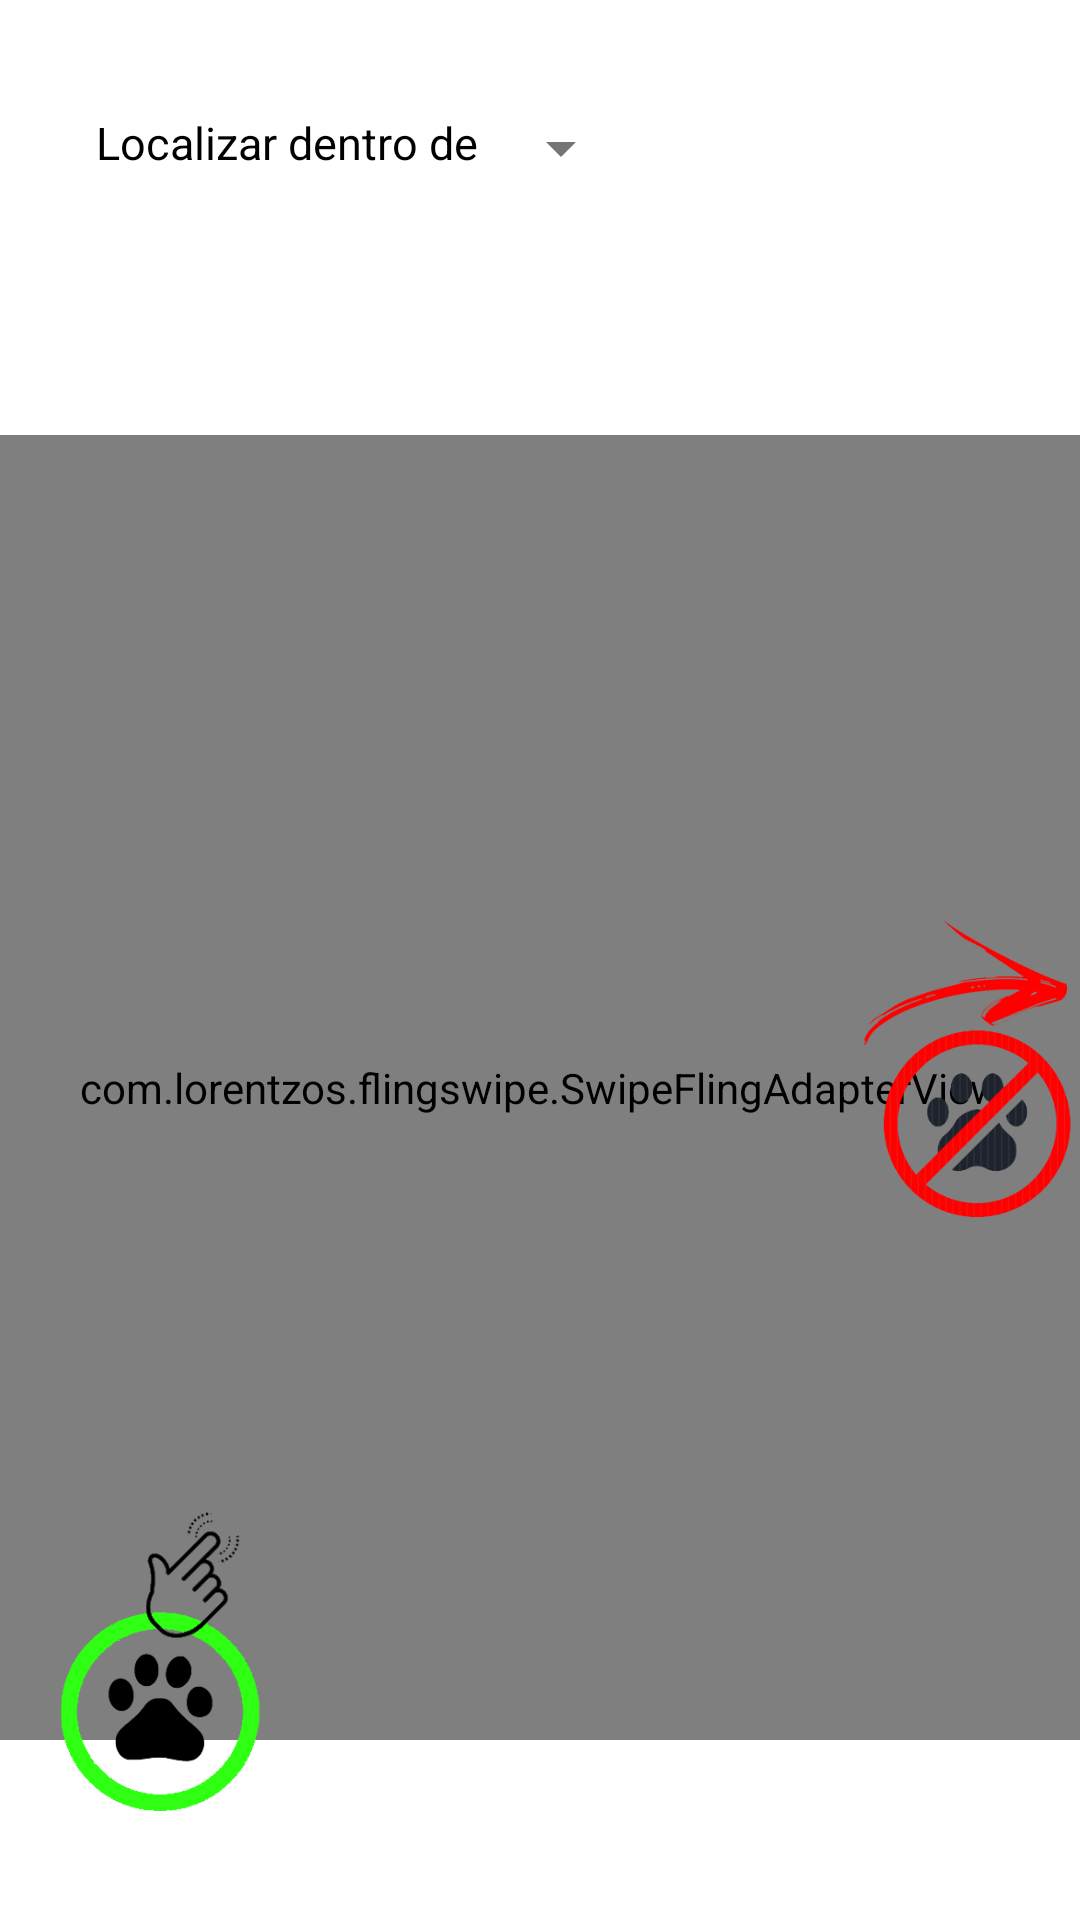

Screen size 1080 x 1920. Icon name, then its box in pixels as (x1, y1, x2, y2):
like animal click: (48, 1512, 273, 1812)
unlike animal seta: (861, 921, 1071, 1217)
